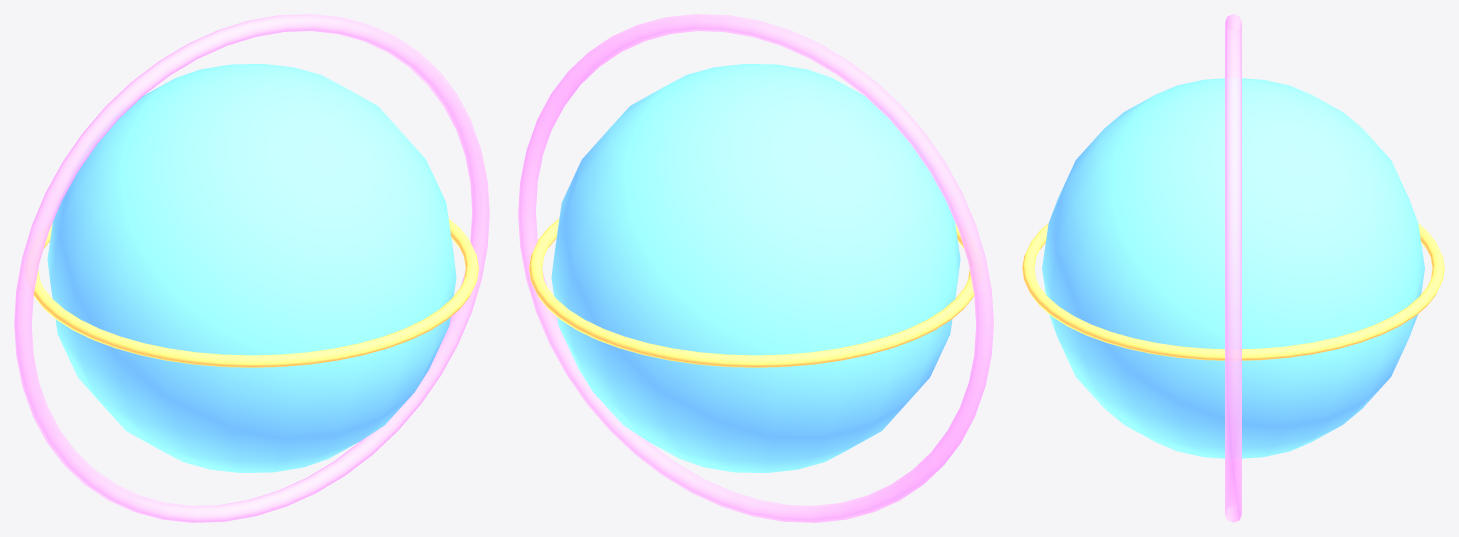
The model's file is urai-orb-avatar-v1.candidate.glb.
3 renders of one model, left to right at view 1: azimuth 30°, elevation 25°; view 2: azimuth 150°, elevation 25°; view 3: azimuth 270°, elevation 25°, orthographic. The views are drawn at different scales.
Parts seen in each view (by area): view 1: orb-inner-aura, orb-equatorial-ring, orb-polar-ring; view 2: orb-inner-aura, orb-equatorial-ring, orb-polar-ring; view 3: orb-inner-aura, orb-equatorial-ring, orb-polar-ring.
Part boxes in pixels (left/top/right/bottom): orb-inner-aura: left=47, top=64, right=456, bottom=472; orb-equatorial-ring: left=14, top=14, right=489, bottom=522; orb-polar-ring: left=33, top=218, right=478, bottom=367; orb-inner-aura: left=551, top=64, right=960, bottom=472; orb-equatorial-ring: left=518, top=14, right=993, bottom=522; orb-polar-ring: left=529, top=218, right=974, bottom=367; orb-inner-aura: left=1042, top=78, right=1424, bottom=458; orb-equatorial-ring: left=1225, top=14, right=1241, bottom=522; orb-polar-ring: left=1022, top=223, right=1444, bottom=360.
Bounding box in the file's own units: 1.49 × 1.49 × 1.24.
